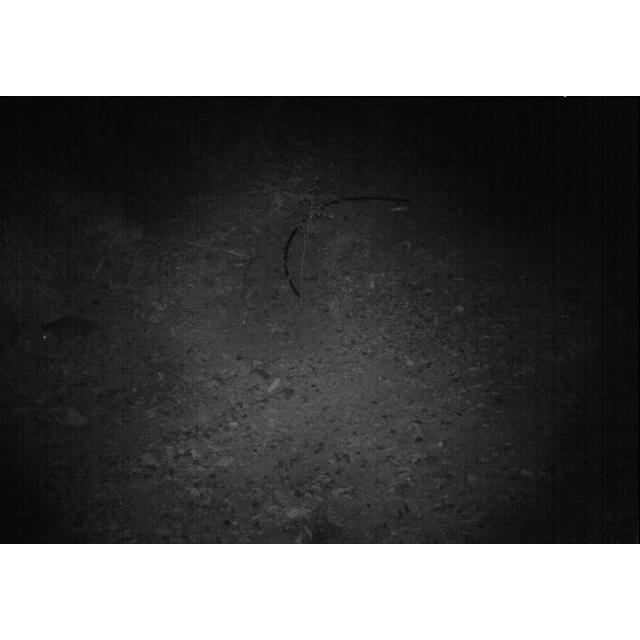animals: (38, 313, 112, 352)
